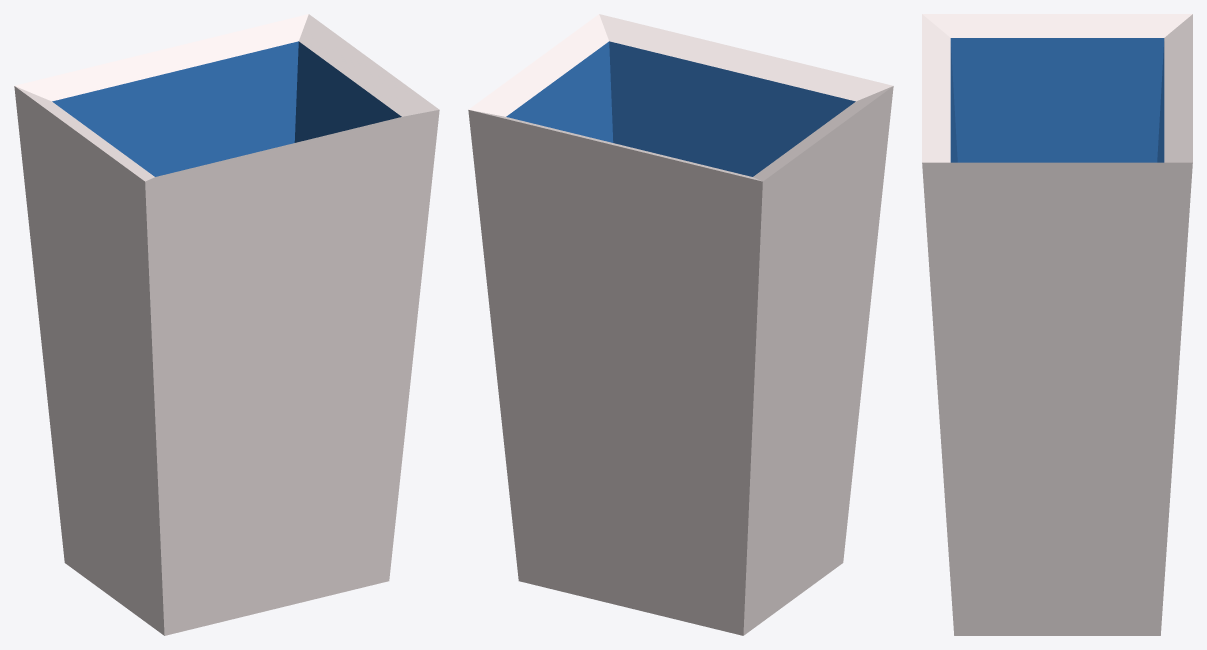
Rendered from bin.fbx.
The picture shows the model from 3 angles, left to right: view 1: azimuth 30°, elevation 25°; view 2: azimuth 150°, elevation 25°; view 3: azimuth 270°, elevation 25°; orthographic projection. The views are drawn at different scales.
Visible parts, largest first — view 1: Cube; view 2: Cube; view 3: Cube.
Boxes of the visible parts, bbox=[...] form: Cube: bbox=[14, 14, 439, 635]; Cube: bbox=[468, 14, 893, 635]; Cube: bbox=[922, 14, 1192, 635].
Size of the model in its own units: 260 by 400 by 200.
